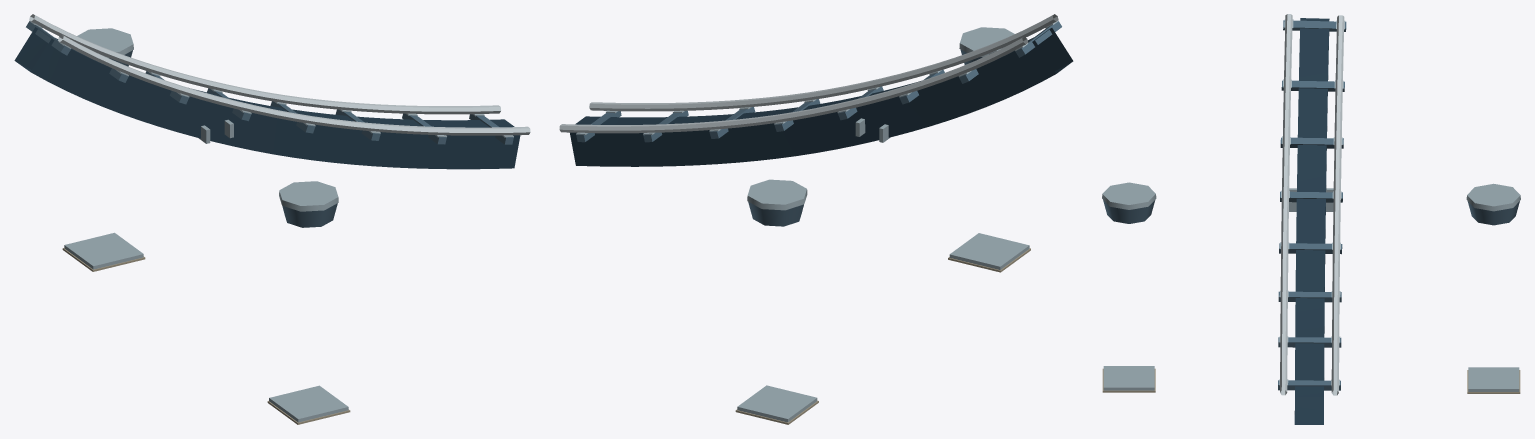
File: coaster-short-bay.glb
The picture shows the model from 3 angles, left to right: view 1: azimuth 30°, elevation 25°; view 2: azimuth 150°, elevation 25°; view 3: azimuth 270°, elevation 25°; orthographic projection. The views are drawn at different scales.
Visible parts, largest first — view 1: spineCoat, runningSteel, connectionSteel, tieCoat, supportCoat, grout; view 2: spineCoat, runningSteel, connectionSteel, tieCoat, supportCoat, grout; view 3: spineCoat, runningSteel, connectionSteel, tieCoat, supportCoat, grout.
Boxes of the visible parts, x1=… form: spineCoat: x1=14, y1=27, x2=520, y2=169; runningSteel: x1=29, y1=14, x2=530, y2=135; connectionSteel: x1=64, y1=28, x2=348, y2=422; tieCoat: x1=26, y1=21, x2=513, y2=144; supportCoat: x1=109, y1=50, x2=337, y2=227; grout: x1=62, y1=248, x2=350, y2=424; spineCoat: x1=570, y1=28, x2=1073, y2=166; runningSteel: x1=559, y1=14, x2=1058, y2=133; connectionSteel: x1=737, y1=27, x2=1029, y2=422; tieCoat: x1=576, y1=21, x2=1061, y2=142; supportCoat: x1=748, y1=49, x2=982, y2=226; grout: x1=735, y1=248, x2=1030, y2=424; spineCoat: x1=1294, y1=18, x2=1329, y2=424; runningSteel: x1=1280, y1=14, x2=1344, y2=395; connectionSteel: x1=1102, y1=182, x2=1520, y2=391; tieCoat: x1=1278, y1=20, x2=1346, y2=390; supportCoat: x1=1103, y1=200, x2=1519, y2=225; grout: x1=1102, y1=368, x2=1520, y2=393.
Bounding box in the file's own units: 14.95 × 10.02 × 12.64.
